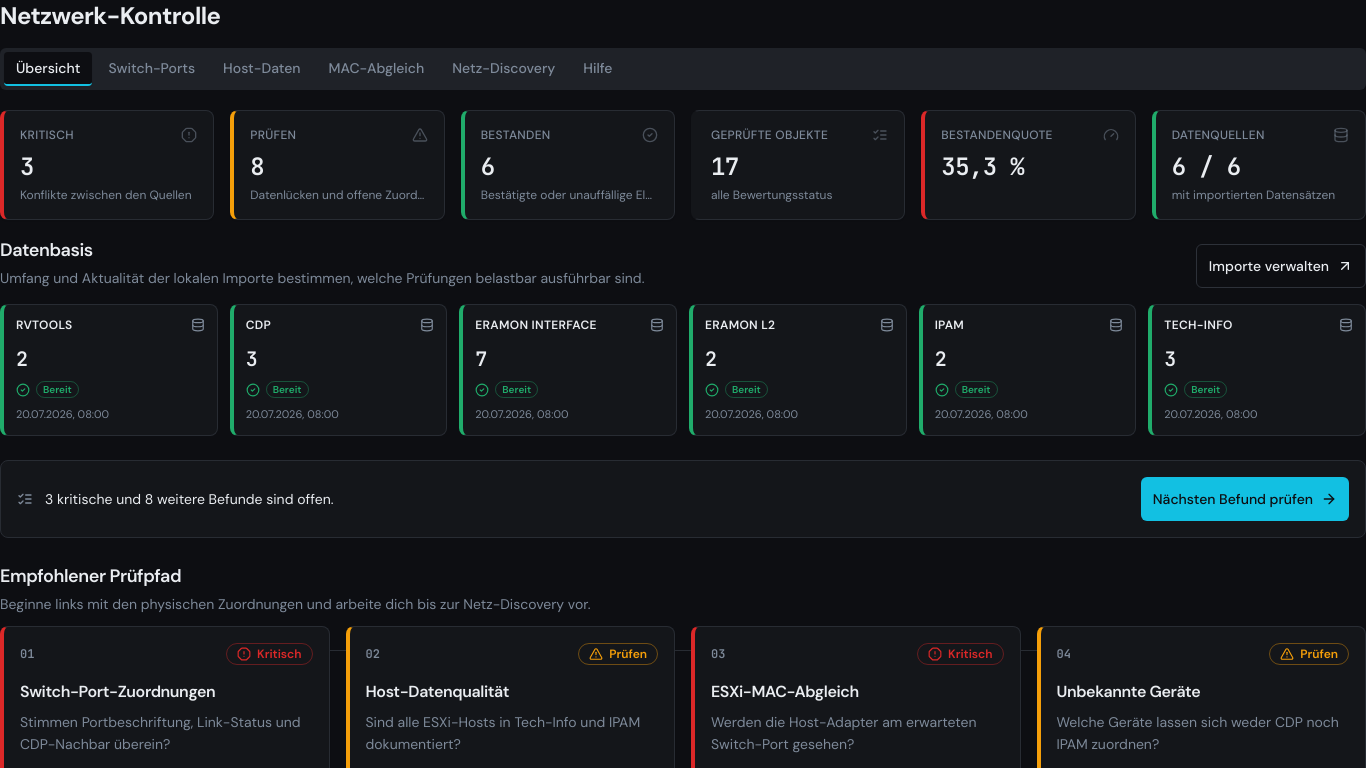
Test case: Network audit orchestrator › fällt bei ungültiger Prüfung und ungültigem Scope sicher auf Übersicht und Handlungsbedarf zurück
The image size is (1366, 768).
Expected: the heading "Datenbasis" is shown, top-left (0, 238), bottom-right (93, 262)
Press the mouse on the tab "Switch-Ports" at {"x": 152, "y": 69}, box top-left (96, 52), bottom-right (207, 86)
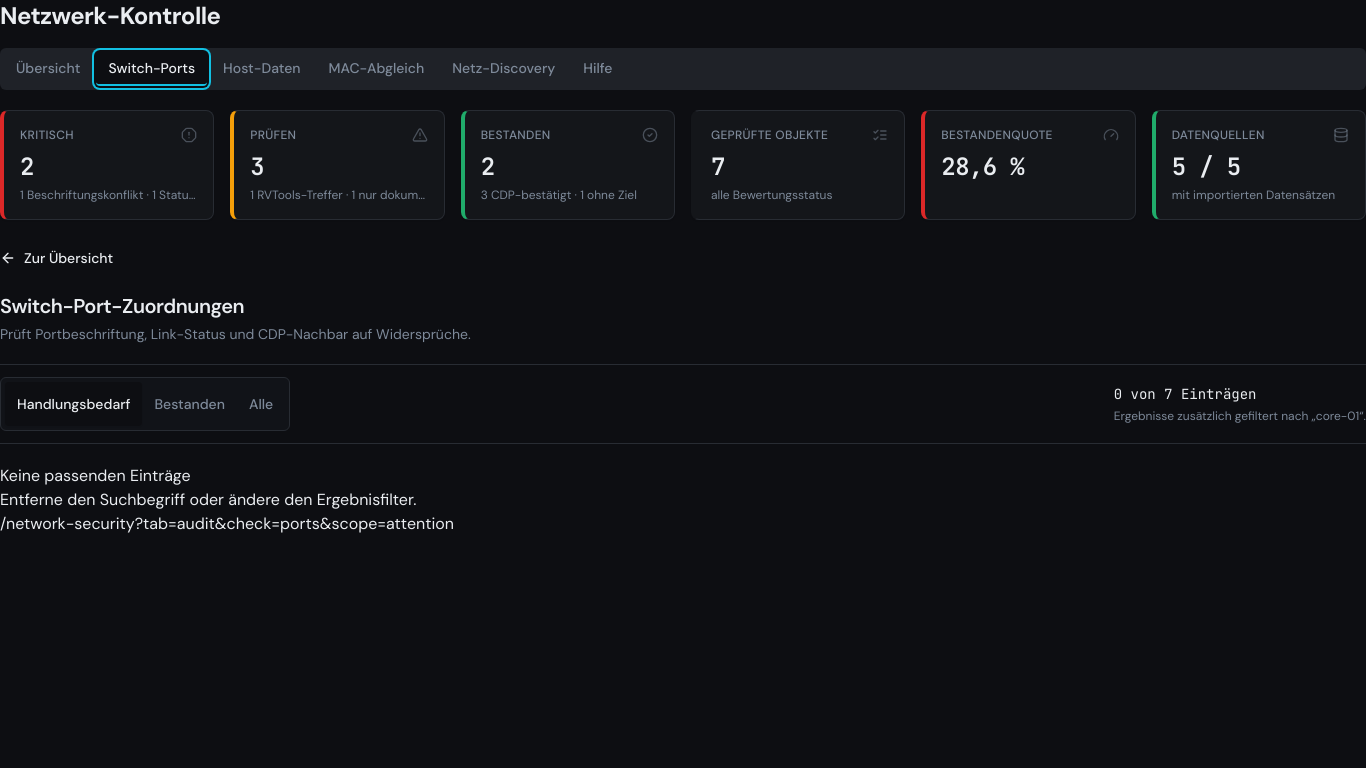
Expected: the radio button labelled "Handlungsbedarf" is checked, top-left (5, 382), bottom-right (142, 426)
